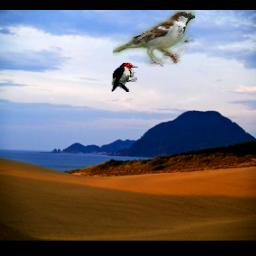Sparrow: (114, 11, 196, 68)
Woodpecker: (112, 63, 139, 93)
